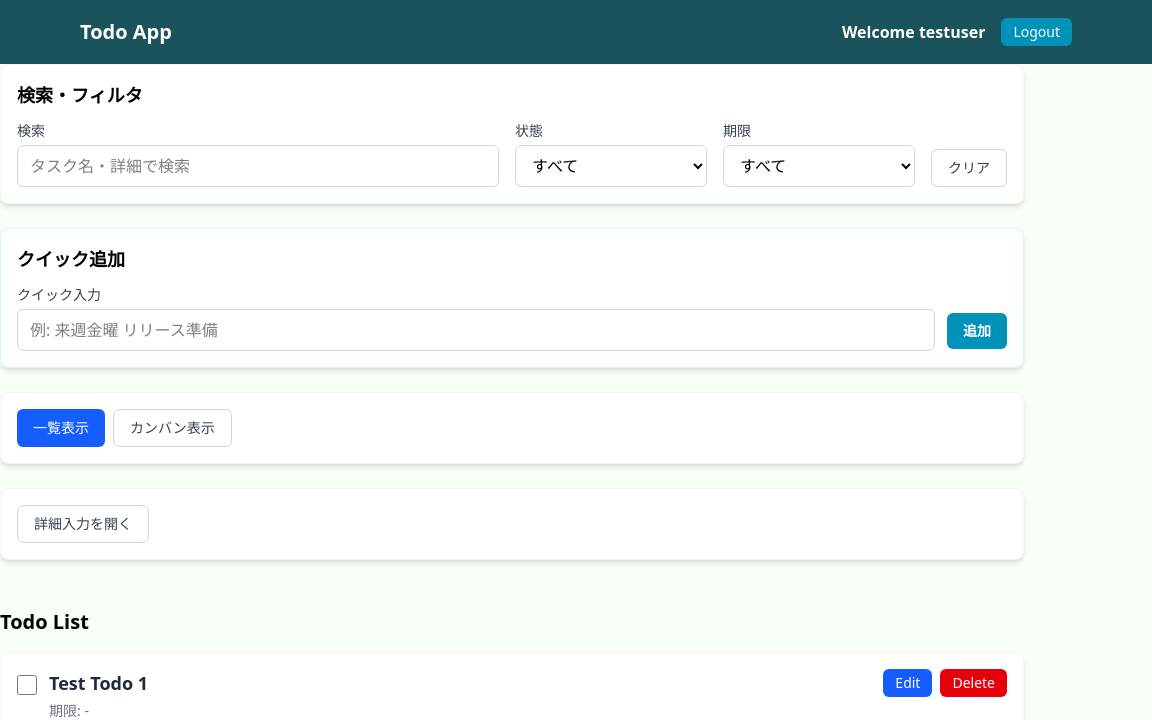
Scenario: DashboardPage › TODO更新 › 編集ボタンクリックで編集フォームが表示される
Expected: the heading "Test Todo 1" is shown, [49, 669, 148, 697]
# 編集ボタンをクリック
Click the button "Edit". click: (908, 683)
box: [883, 669, 932, 697]
(page scrolled)
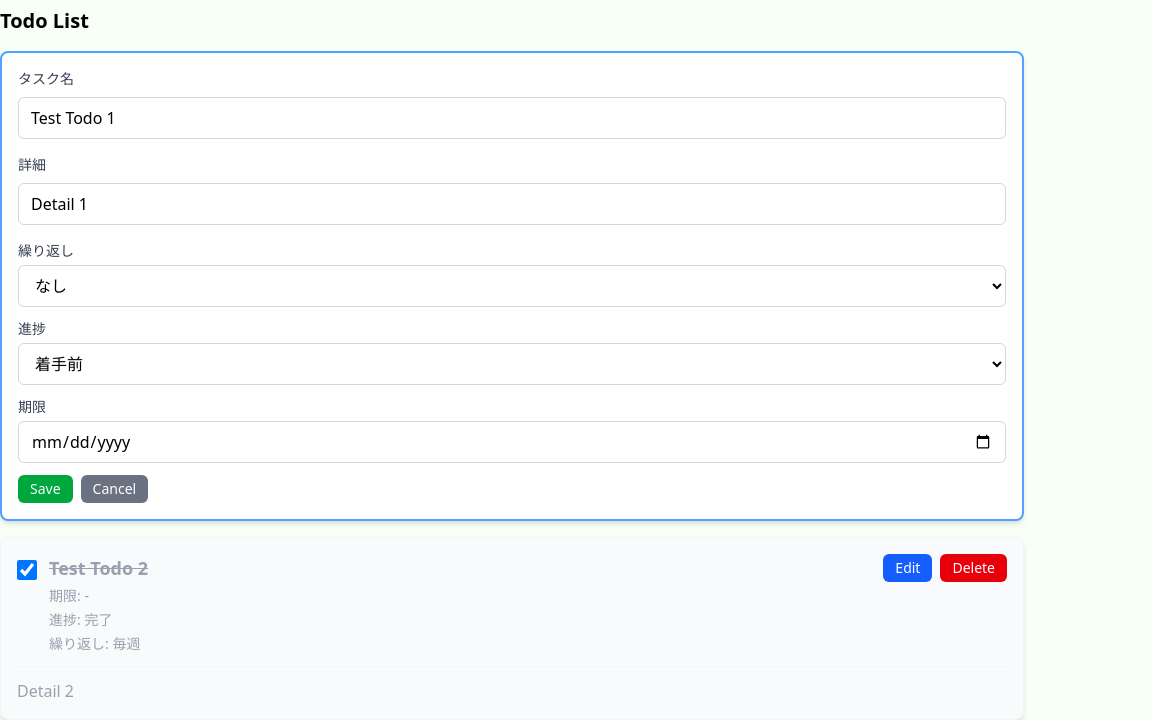
Result: the field labelled "タスク名" is shown at [18, 97, 1006, 139]
Result: the field labelled "詳細" is shown at [18, 183, 1006, 225]
Result: the dropdown labelled "繰り返し" is shown at [18, 265, 1006, 307]
